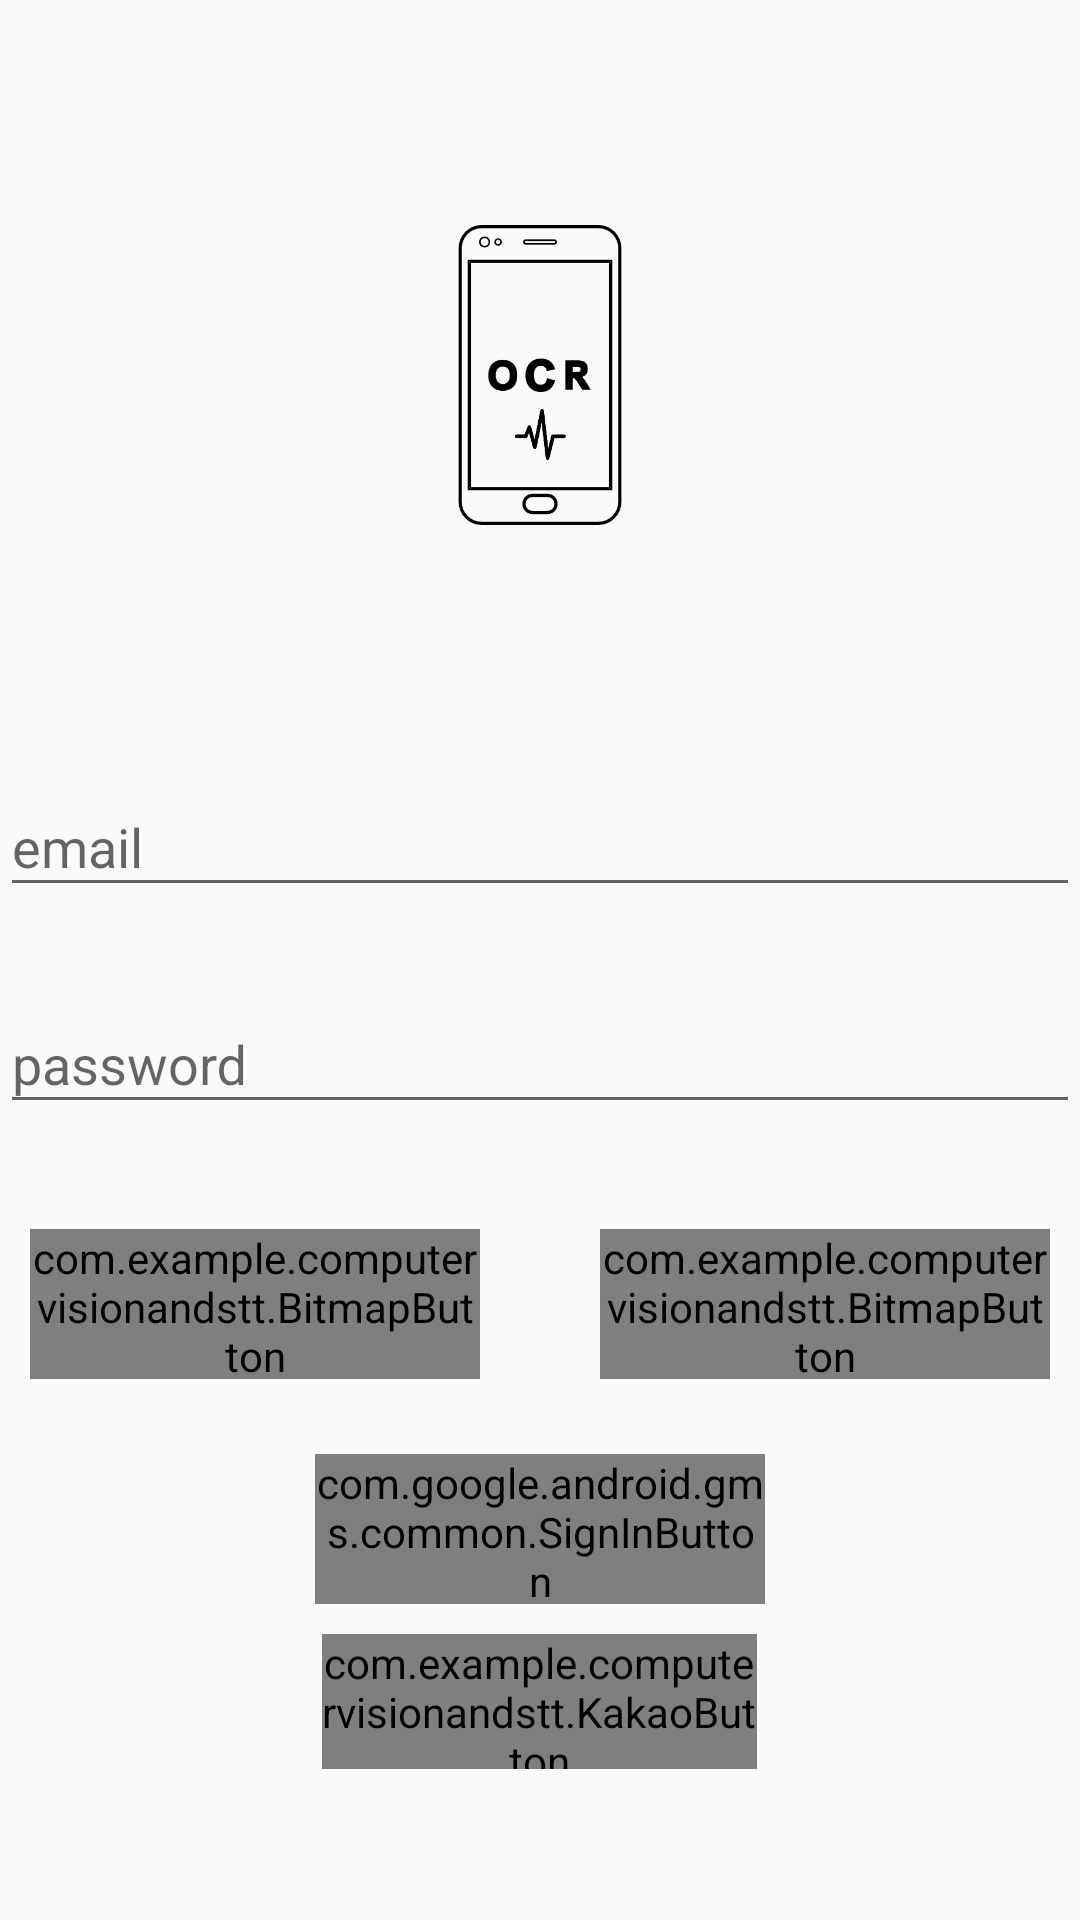

Icons on this 1080w x 1920h Android screen, each with its box as (x1, y1, x2, y2):
smartphone: (458, 225, 622, 525)
